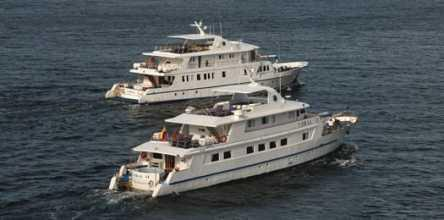yacht: (115, 87, 359, 194), (115, 23, 307, 102)
